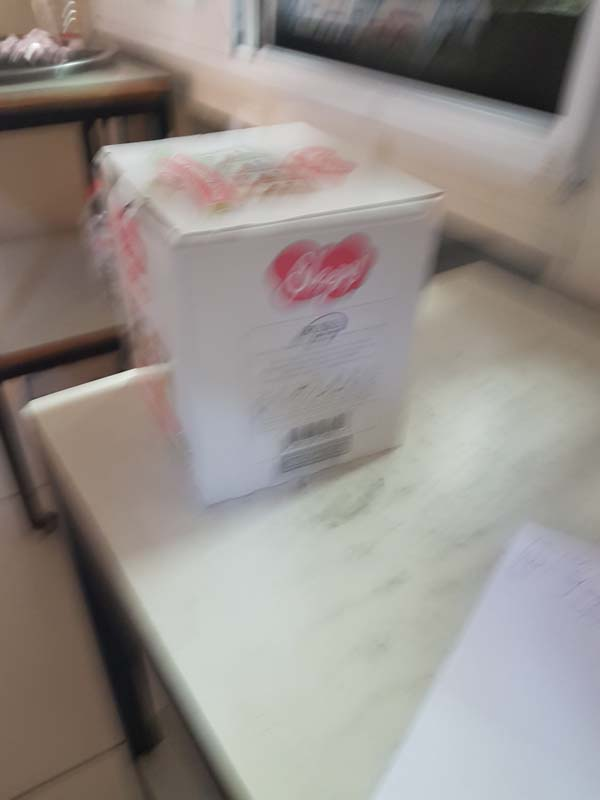sleepyogrencikoli: (85, 118, 456, 512)
